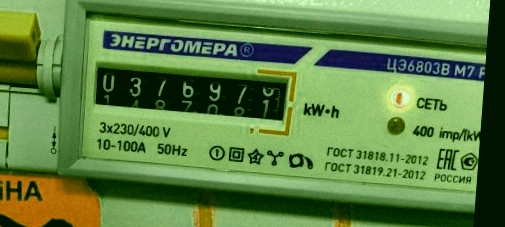0: (100, 70, 116, 93)
1: (259, 97, 270, 119)
3: (127, 75, 142, 97)
6: (179, 75, 196, 99)
7: (153, 74, 169, 98), (233, 80, 249, 104)
9: (206, 79, 222, 102)
screen: (81, 52, 300, 139)
